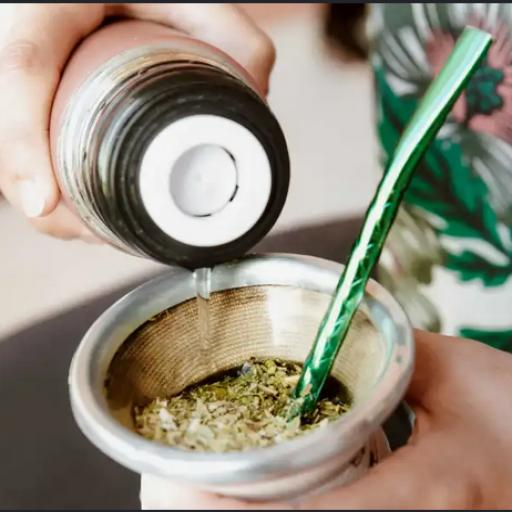mate: (71, 259, 412, 487)
termo: (51, 22, 289, 268)
